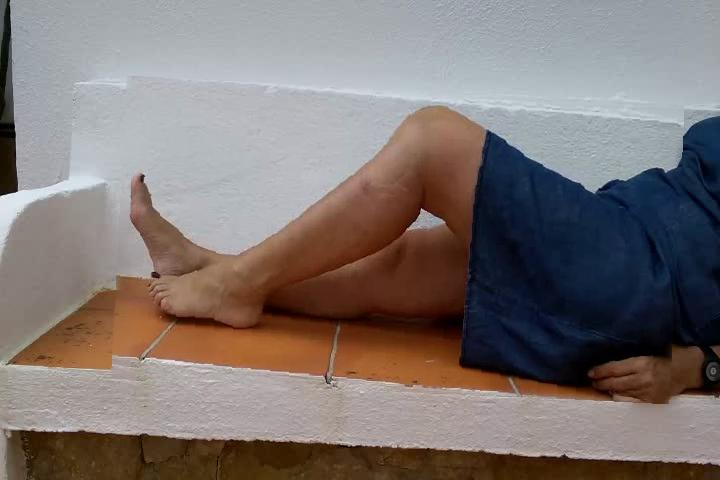lower_body: (115, 84, 682, 398)
